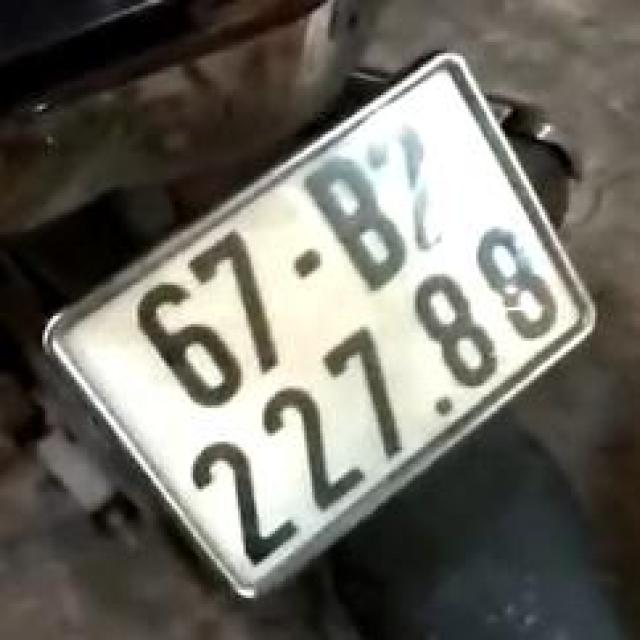2: (172, 422, 316, 576), (354, 105, 484, 261), (245, 369, 379, 519)
6: (124, 268, 254, 419)
7: (182, 218, 313, 379), (313, 317, 434, 467)
8: (401, 258, 516, 403), (461, 211, 572, 352)
B: (293, 145, 424, 307)
